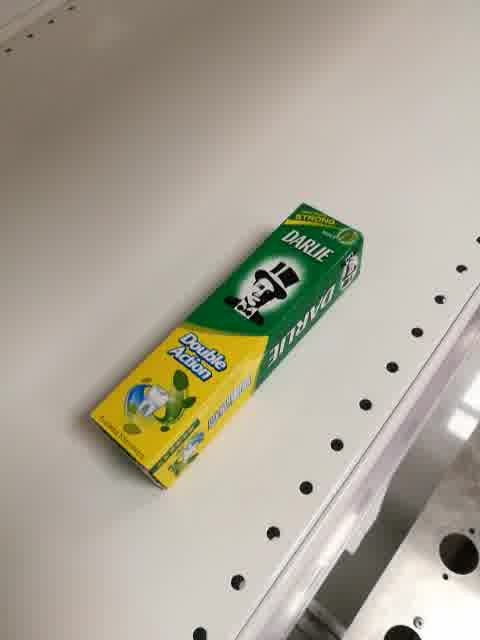toothpaste: (89, 201, 364, 492)
